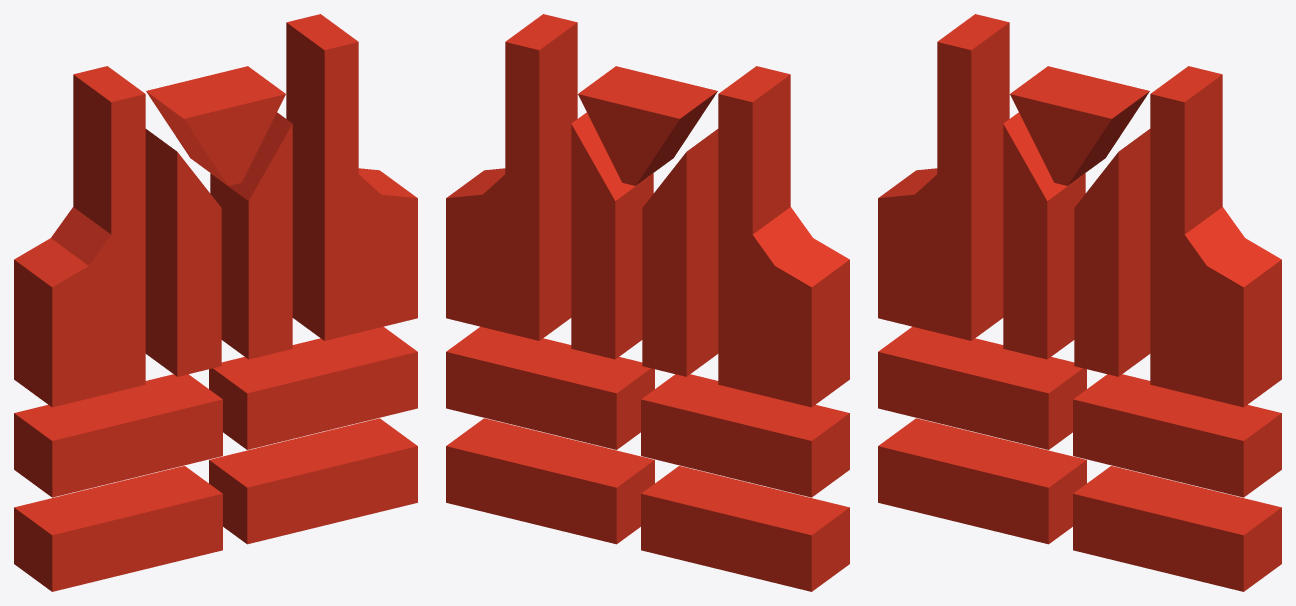
The model's file is Icon_Vest.fbx.
3 renders of one model, left to right at view 1: azimuth 30°, elevation 25°; view 2: azimuth 150°, elevation 25°; view 3: azimuth 330°, elevation 25°, orthographic.
Visible parts, largest first — view 1: Icon_Vest; view 2: Icon_Vest; view 3: Icon_Vest.
Boxes of the visible parts, x1=… form: Icon_Vest: x1=14, y1=14, x2=417, y2=591; Icon_Vest: x1=446, y1=14, x2=849, y2=591; Icon_Vest: x1=878, y1=14, x2=1281, y2=591.
Size of the model in its own units: 58.54 by 72.71 by 10.58.
